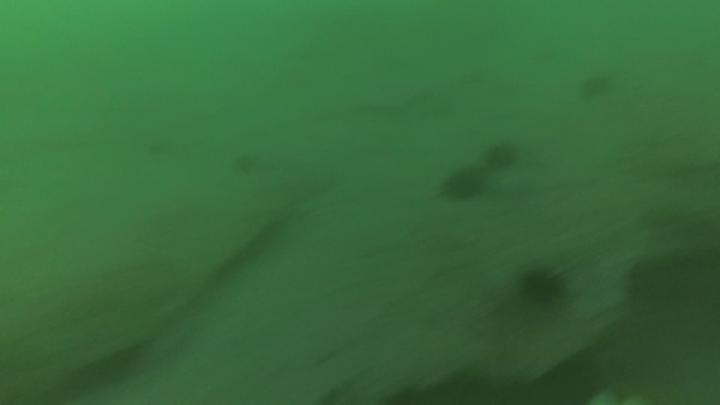echinus: (514, 263, 569, 313), (437, 166, 488, 204), (481, 138, 523, 175), (577, 69, 615, 104), (230, 150, 263, 178)
